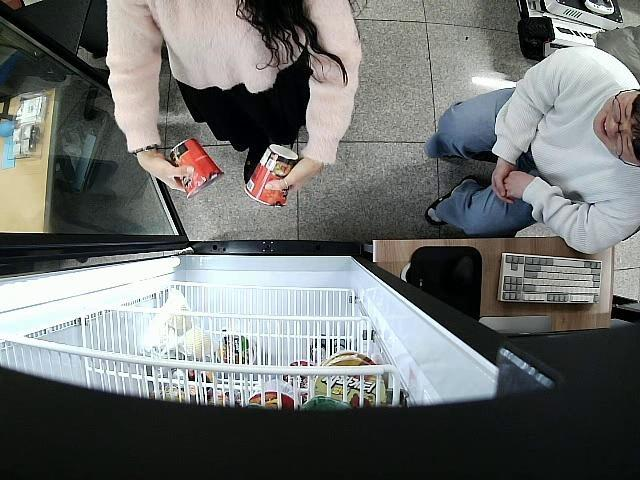02_shinRamen_S: (168, 137, 224, 198), (247, 142, 296, 207)
